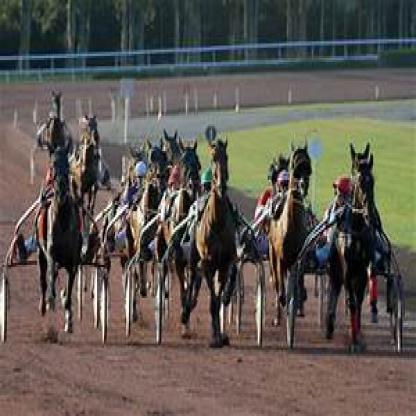horse: (181, 139, 238, 348), (328, 139, 382, 352), (258, 139, 316, 323), (36, 141, 86, 342)
